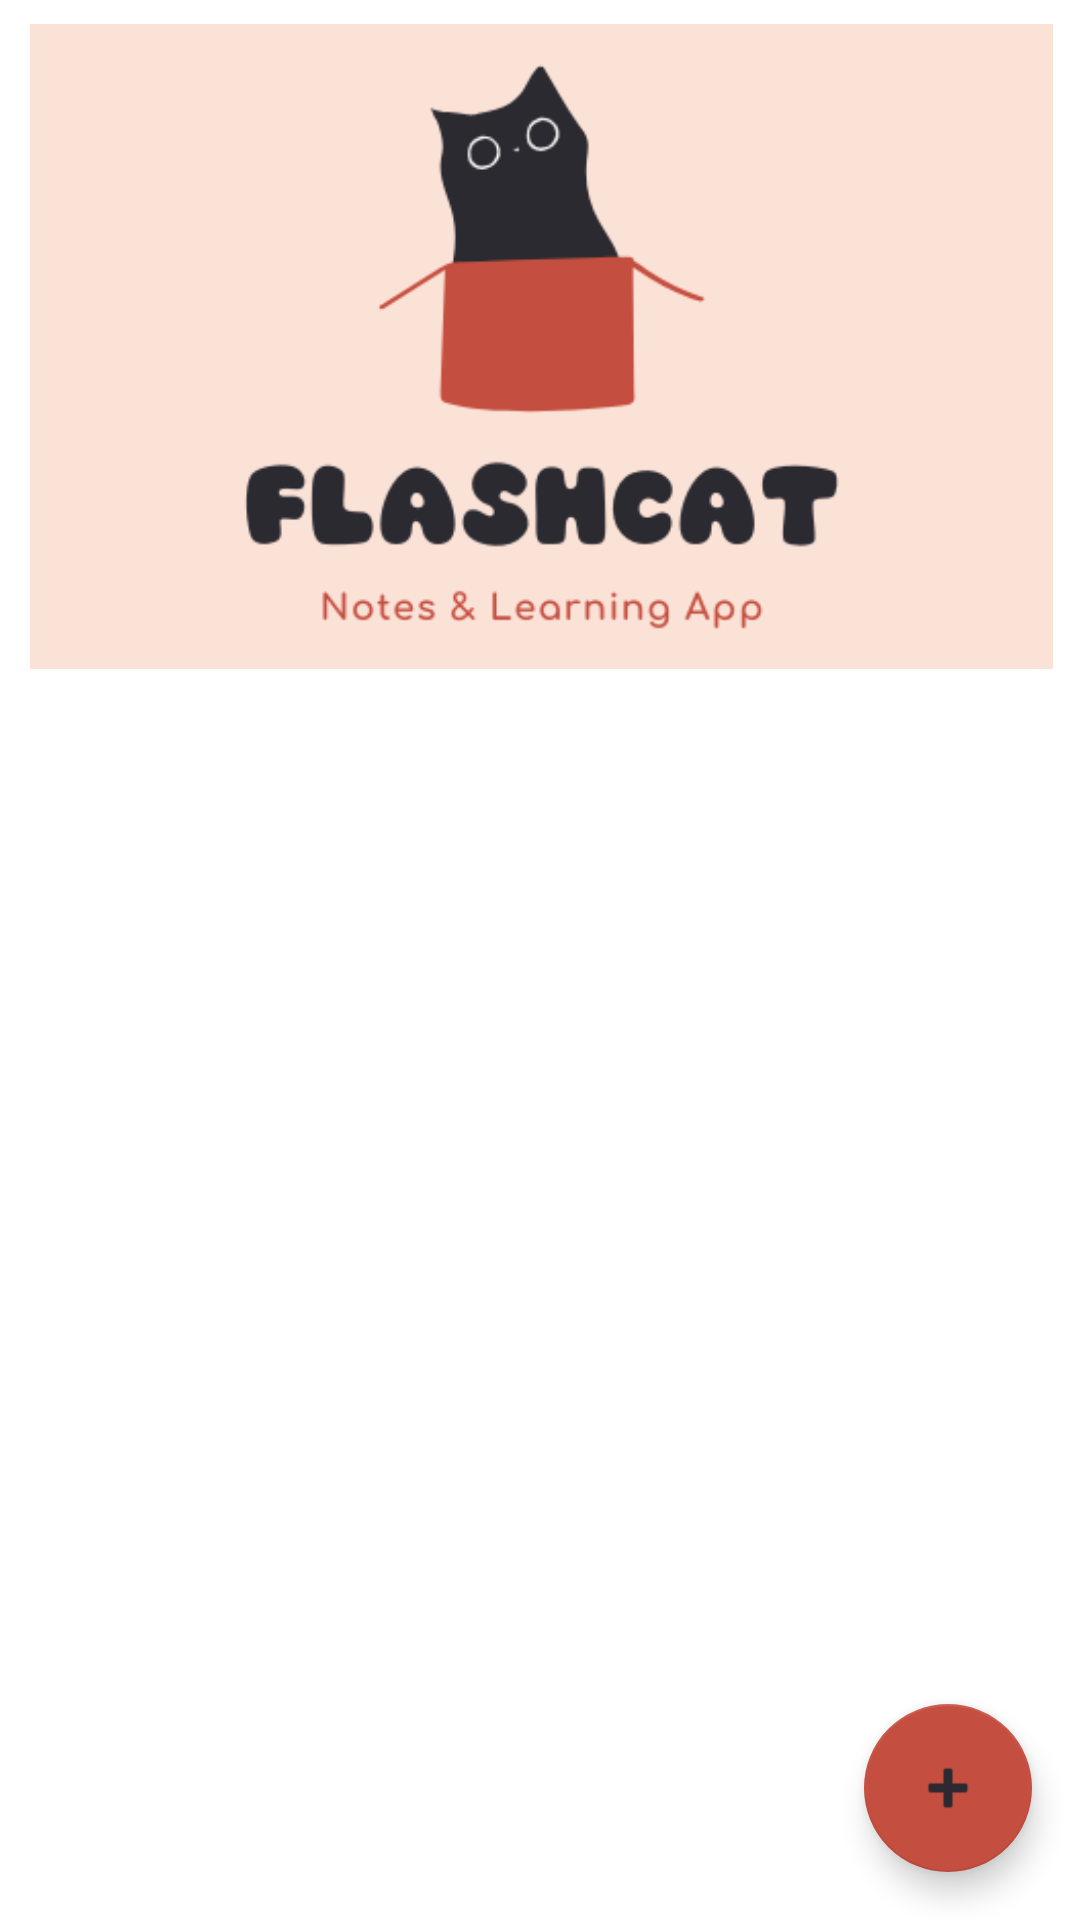

Icons on this 1080 x 1920 Android screen, each with the point to tap as [x,y]:
New Flashcard: [948,1788]
